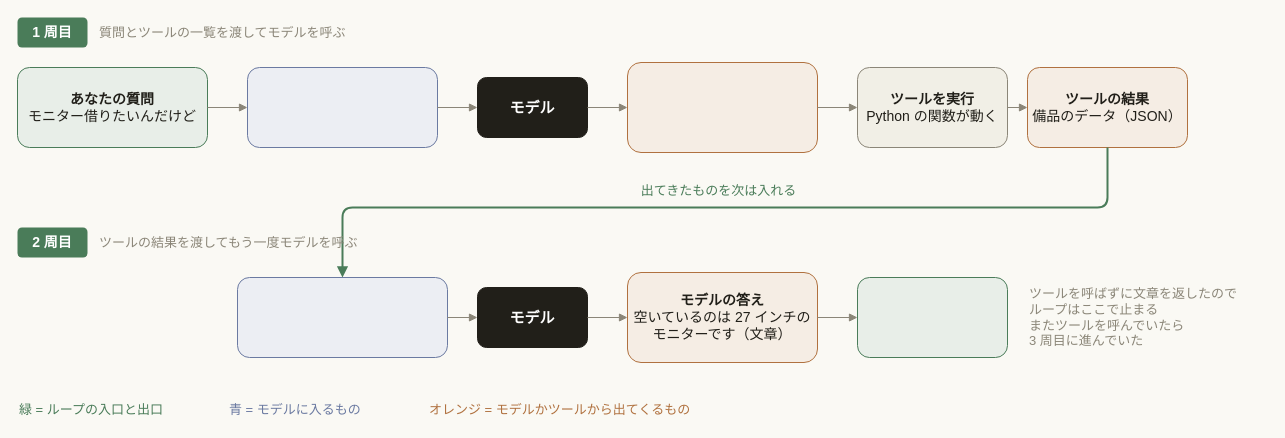
This 1285x438 diagram has some shape labels left out. The centre of each missing label's shape, as x and y in pixels:
モデルの判断 search_equipment を 「モニター」で呼んで: the point at 722,107
モデルへの入力 ツールの結果 + ここまでの流れ: the point at 342,317
モデルへの入力 質問 + 使えるツールの一覧: the point at 342,107
最終的な答え 画面に出る: the point at 932,317
